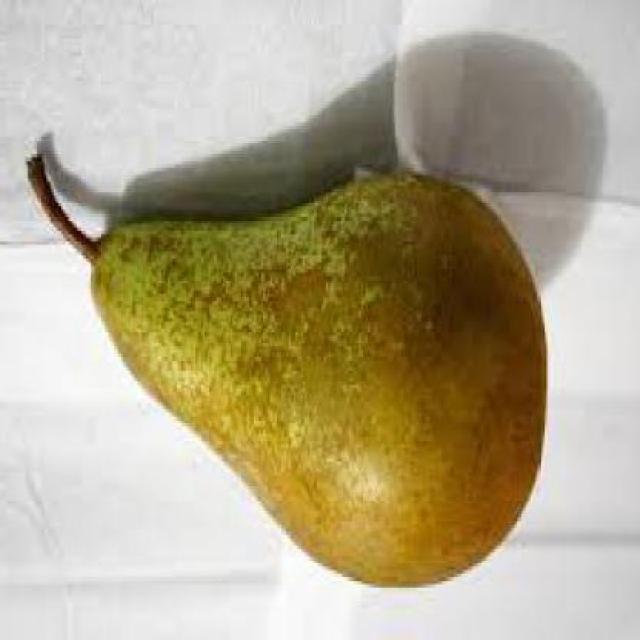BIODEGRADABLE: (29, 155, 546, 586)
